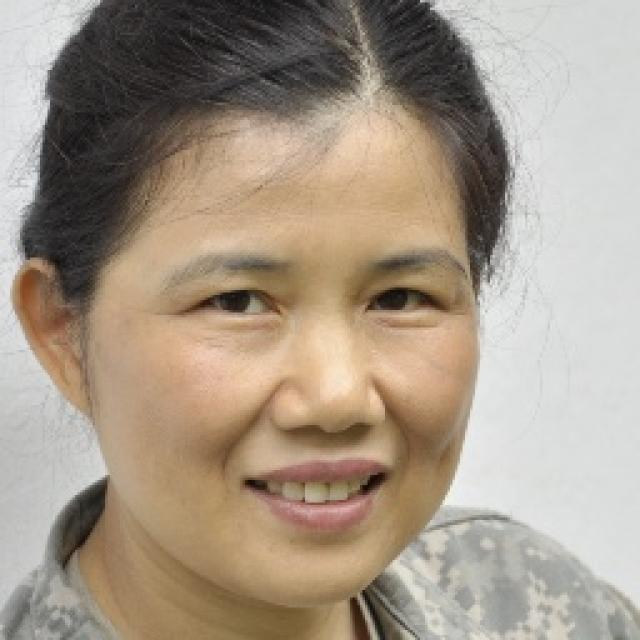earlobe: (54, 376, 93, 420)
eye: (186, 278, 284, 324), (364, 281, 439, 325)
nose: (276, 416, 381, 457)
wholeear: (10, 257, 95, 421)
